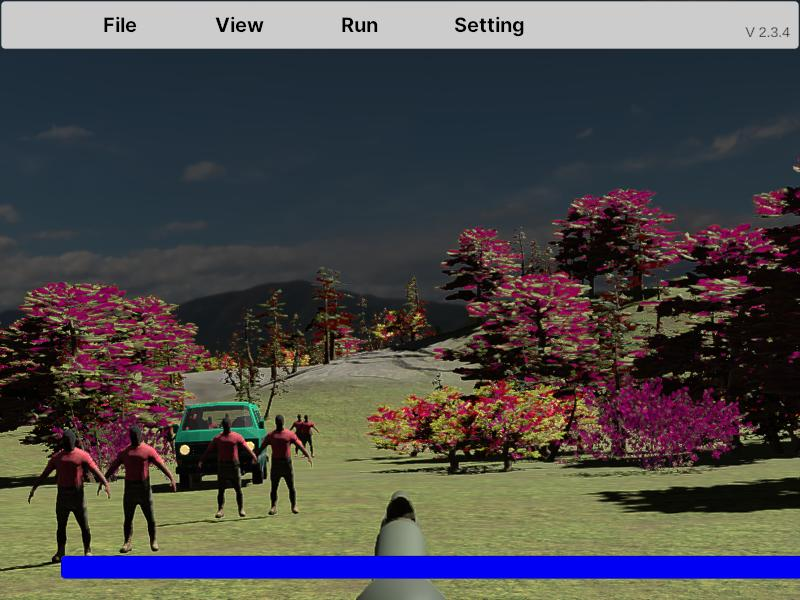Human: (29, 428, 110, 566), (100, 424, 176, 554), (198, 419, 259, 518), (258, 415, 312, 515), (296, 413, 320, 458)
car: (175, 401, 267, 484)
